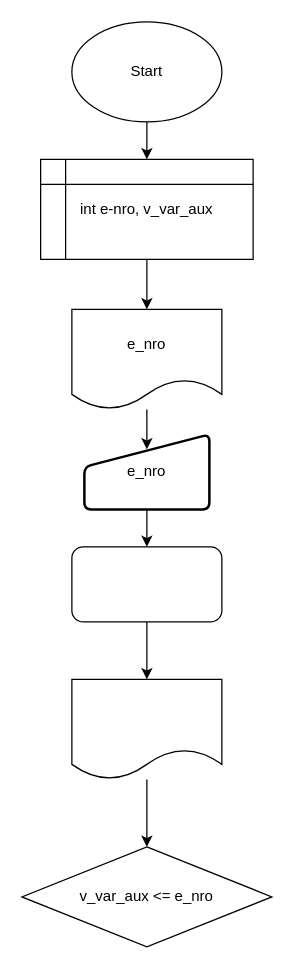
Some shapes in this 294 by 969 pixel diagram are drawn without their labels. Each missing label, with the centre of its shape:
"Saída" belongs at (x=146, y=728).
"v_var_aux=0" belongs at (x=146, y=584).
